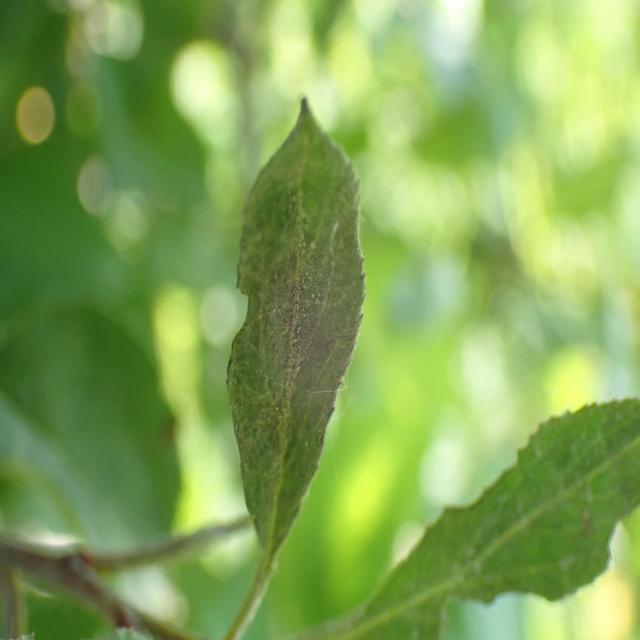Powdery_mildew: (211, 85, 368, 606), (402, 405, 640, 640)
